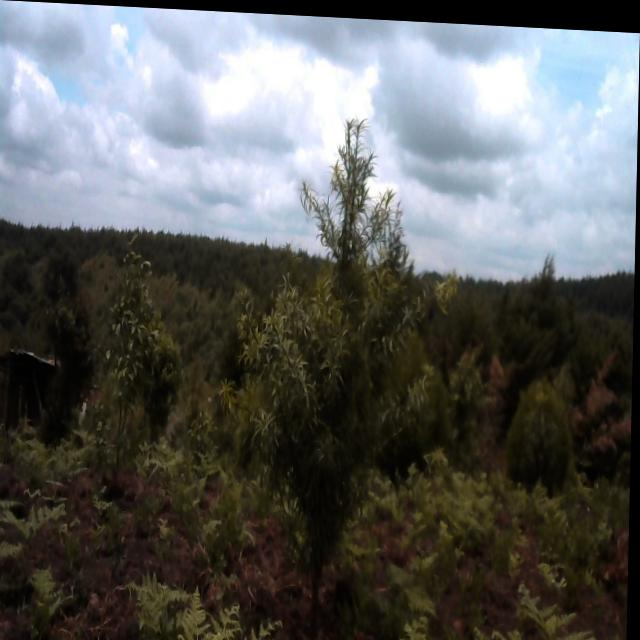Hass Avocado: (91, 239, 165, 490)
Podocarpus falcatus: (223, 103, 454, 552)
other: (142, 319, 187, 435)
